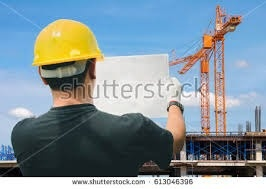helmet: (31, 17, 106, 69)
person with partial safety: (10, 15, 147, 179)
